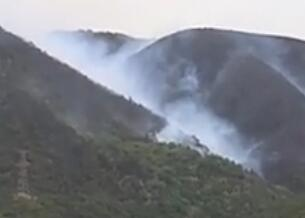yanwu: (154, 94, 263, 173), (98, 41, 201, 117), (1, 3, 100, 76)
